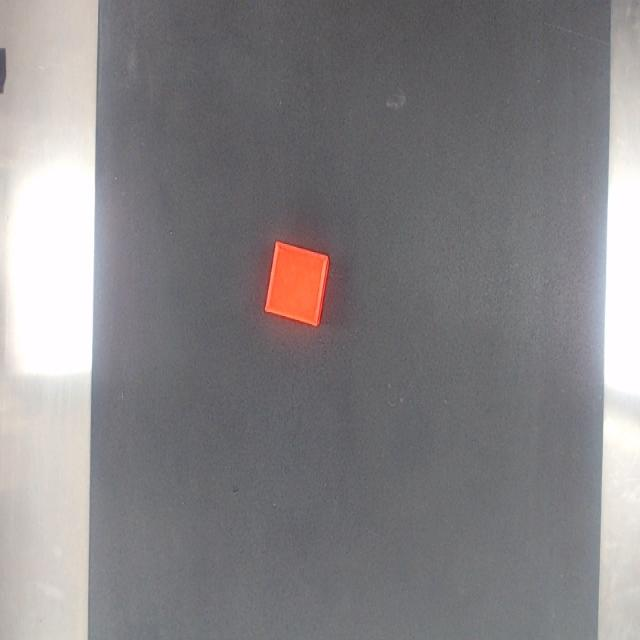Rojo: (264, 241, 329, 325)
